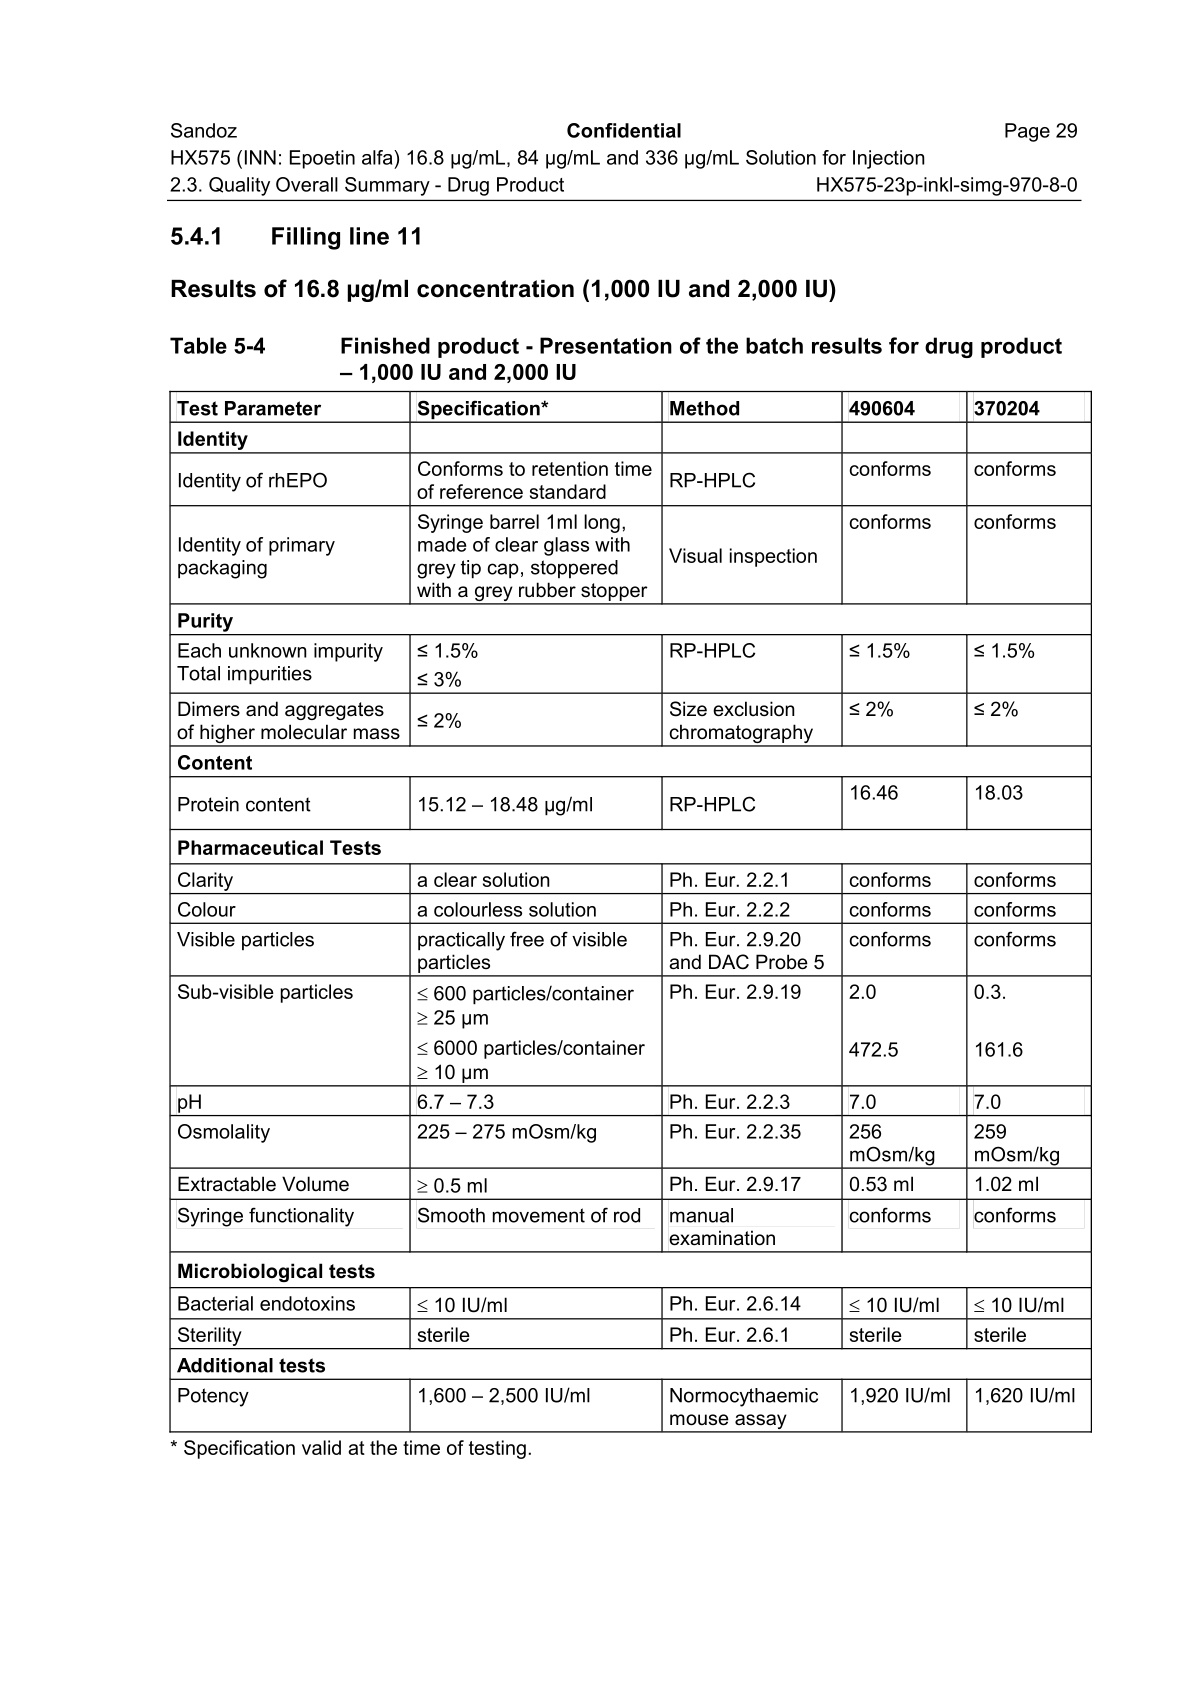merged_cells: (168, 390, 1092, 1434)
